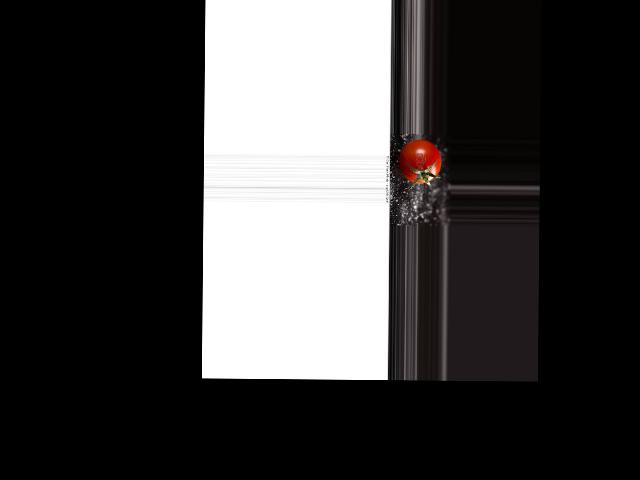tomato: (398, 139, 441, 183)
